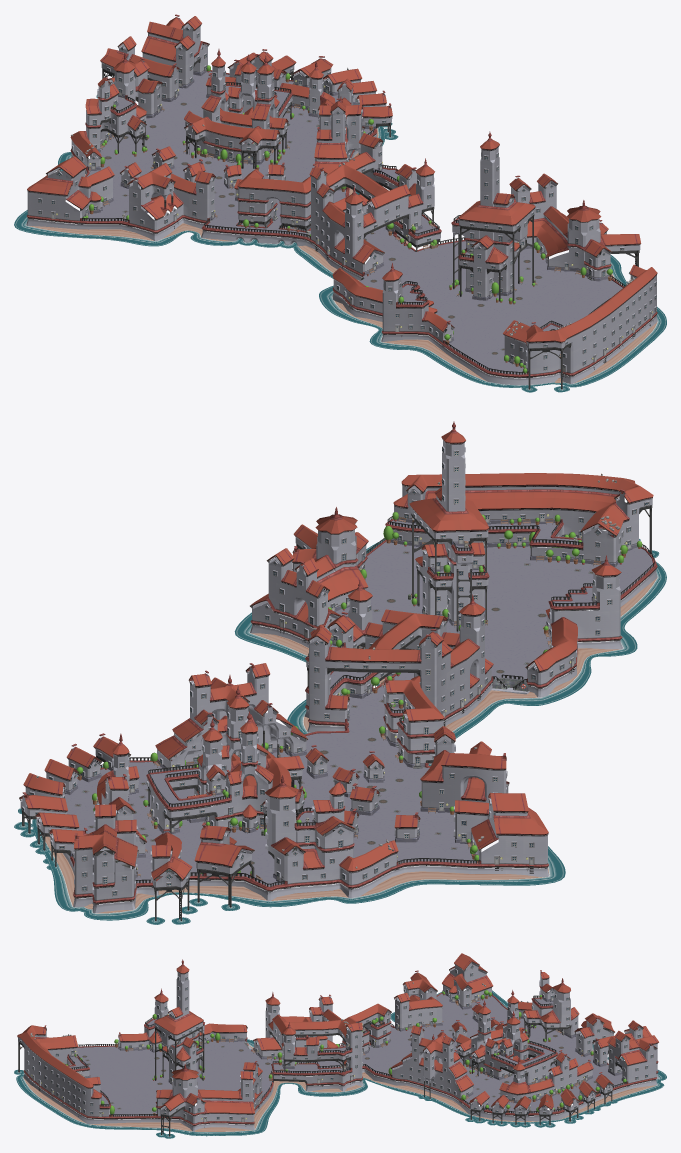
The model's file is town.fbx.
The picture shows the model from 3 angles, top to bottom: view 1: azimuth 30°, elevation 25°; view 2: azimuth 150°, elevation 25°; view 3: azimuth 270°, elevation 25°; orthographic projection. The views are drawn at different scales.
Parts seen in each view (by area): view 1: town2; view 2: town2; view 3: town2.
Boxes of the visible parts, x1,y1,x2,y2 form: town2: (14, 14, 666, 392); town2: (14, 421, 666, 924); town2: (14, 953, 666, 1138).
Size of the model in its own units: 3364 by 1279 by 5952.
